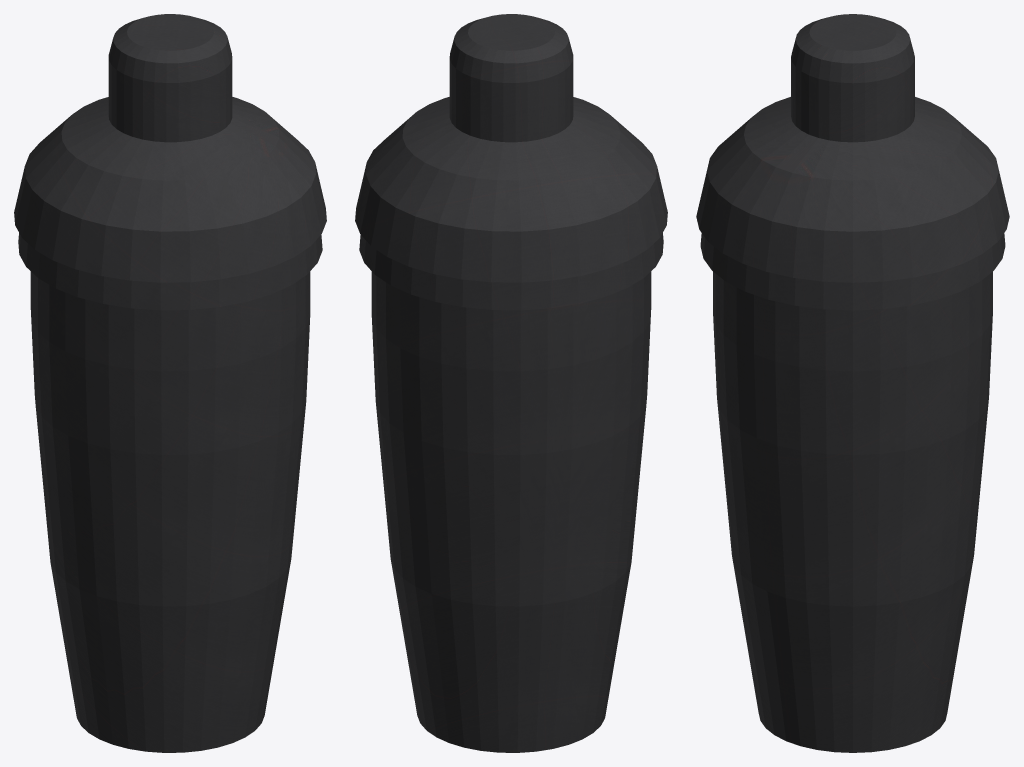
The model's file is Shaker.fbx.
The picture shows the model from 3 angles, left to right: view 1: azimuth 30°, elevation 25°; view 2: azimuth 150°, elevation 25°; view 3: azimuth 270°, elevation 25°; orthographic projection.
Visible parts, largest first — view 1: Cube; view 2: Cube; view 3: Cube.
Part boxes in pixels (bbox=[...]): Cube: bbox=[14, 14, 326, 752]; Cube: bbox=[355, 14, 667, 752]; Cube: bbox=[696, 14, 1009, 752].
Bounding box in the file's own units: 36.29 × 86.94 × 36.29.
